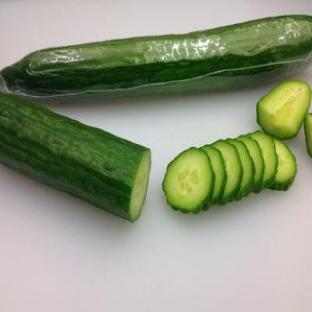Cucumber: (0, 16, 311, 97), (0, 94, 150, 221), (163, 148, 214, 212), (257, 81, 311, 138), (212, 140, 242, 204), (227, 139, 255, 200), (249, 131, 277, 188), (238, 136, 264, 193), (201, 146, 226, 203), (270, 139, 297, 190), (305, 113, 311, 156)
